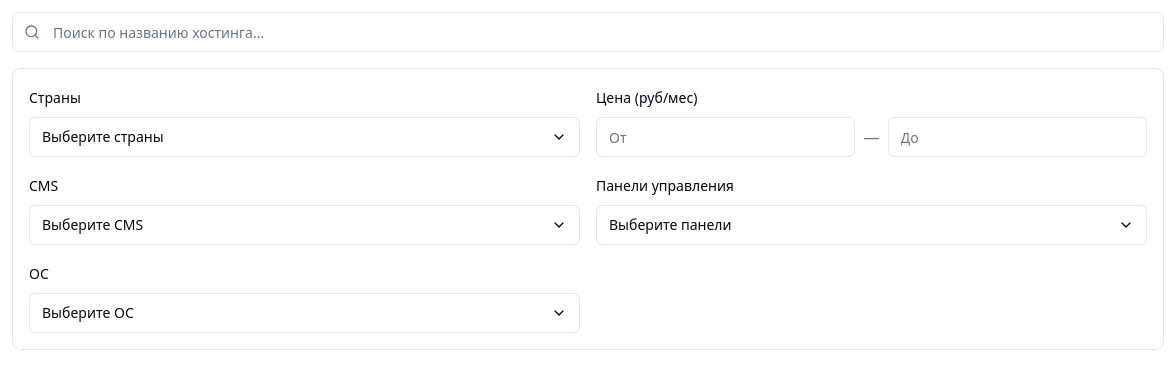
Test: HostingFilters › отображает количество доступных опций в фильтрах
Click the button "Выберите страны" at x=103, y=136, box x1=29 y1=117 x2=580 y2=157
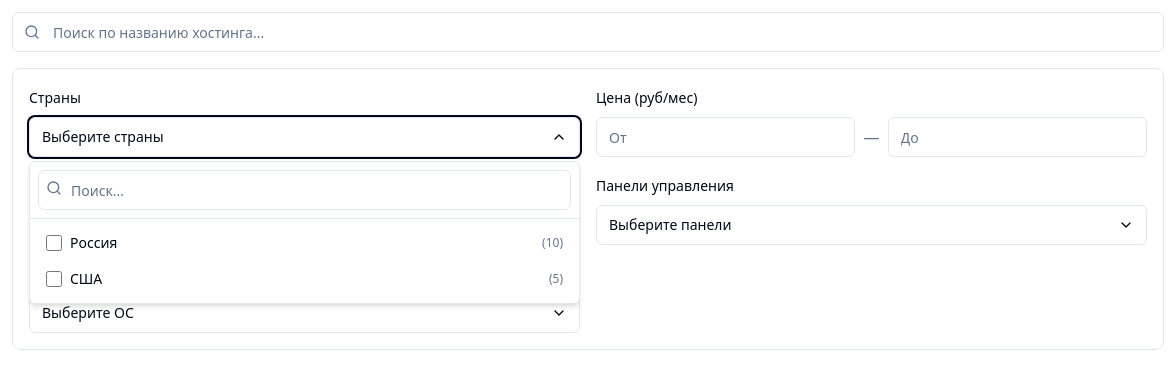
Expected: the text "Россия" is shown, x1=70 y1=233 x2=117 y2=253
Expected: the text "(10)" is shown, x1=542 y1=235 x2=563 y2=251
Expected: the text "(5)" is shown, x1=549 y1=271 x2=563 y2=287
